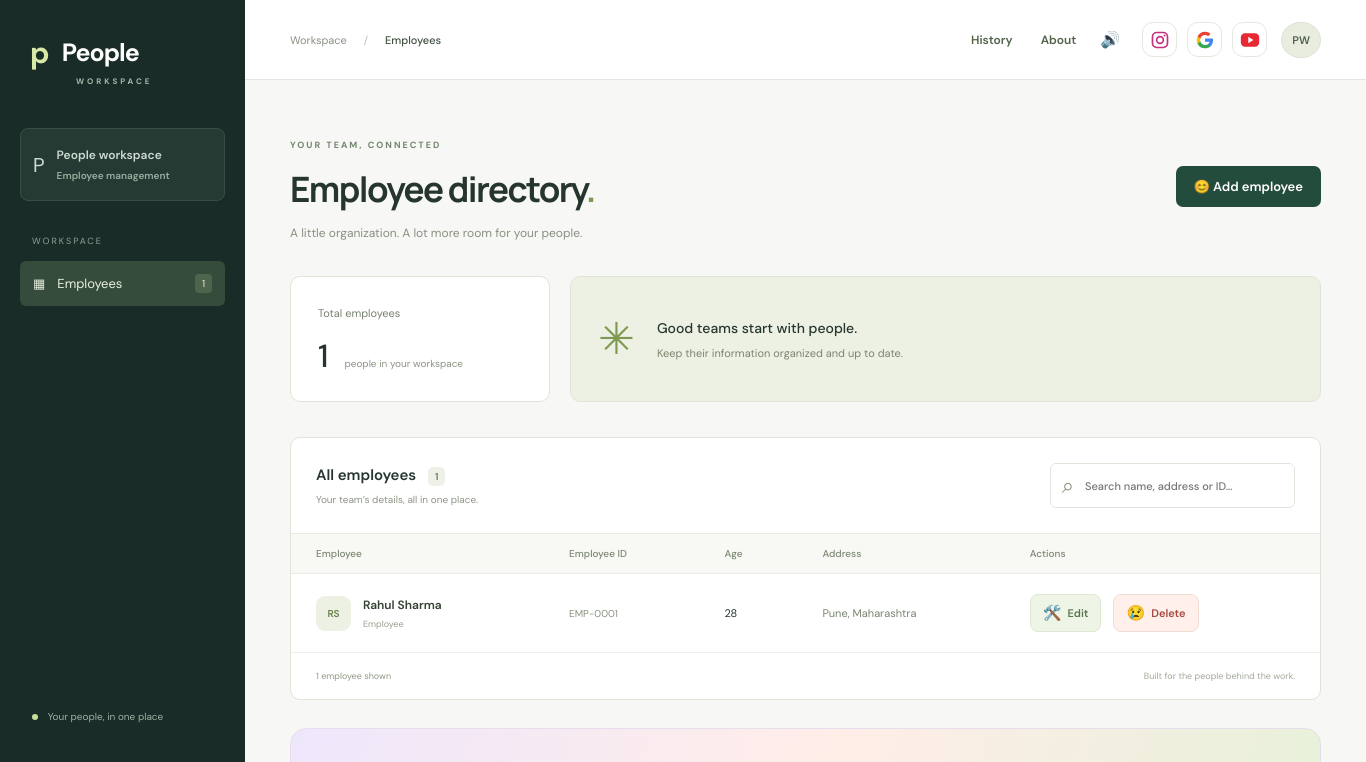
Test case: edits employee and refreshes list
Click the button with aria-label "Edit Rahul Sharma" at [1066, 613], box [1030,594,1102,632]
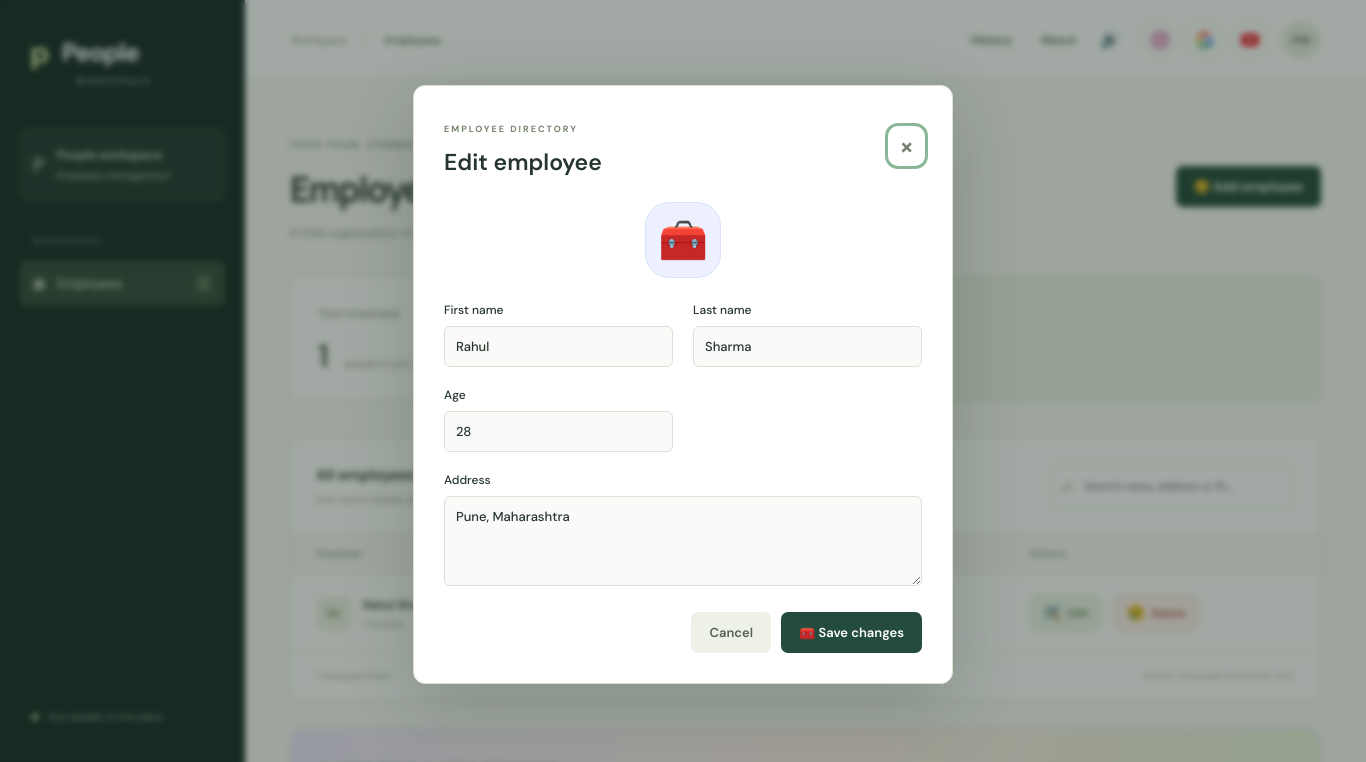
Replace the text in the number field labelled "Age" with "29" at [558, 431], box [444,410,673,452]
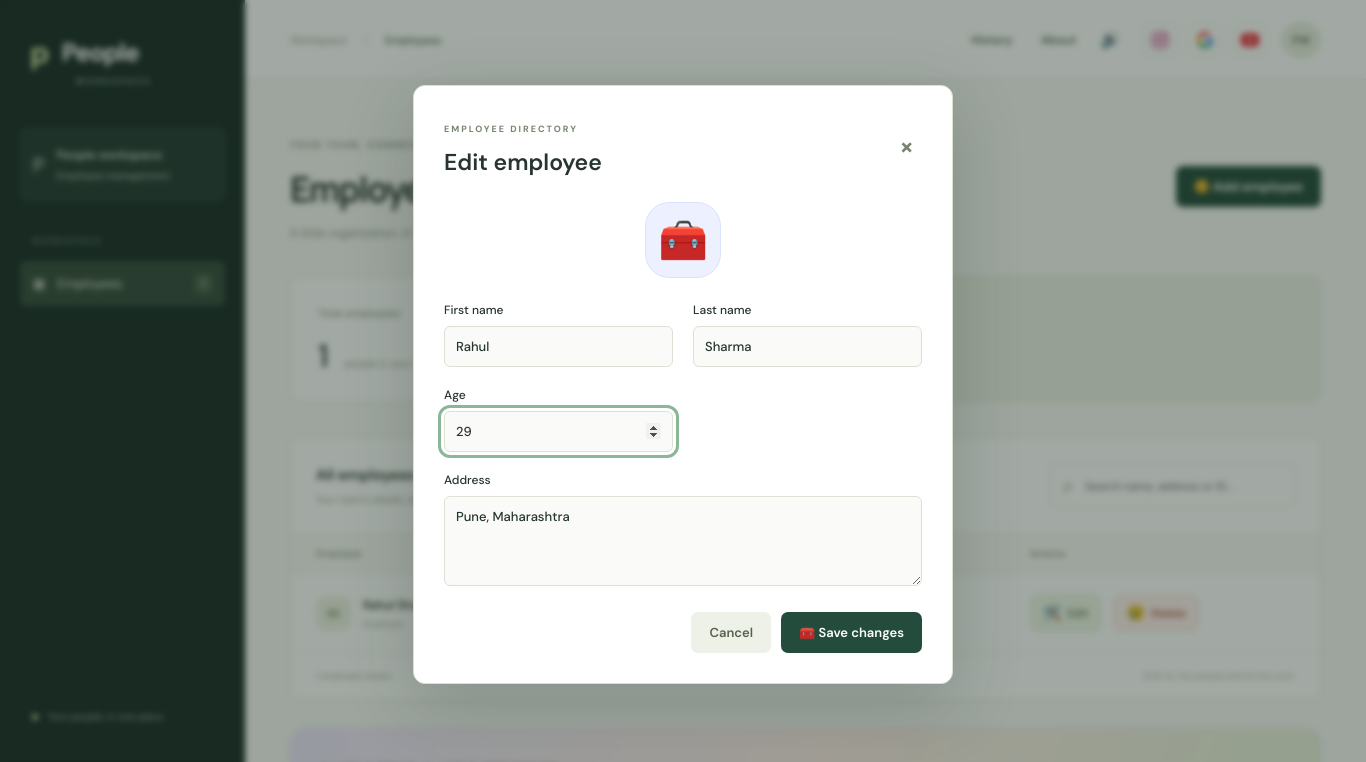
Click the button "🧰 Save changes" at [852, 632], box [781,612,922,652]
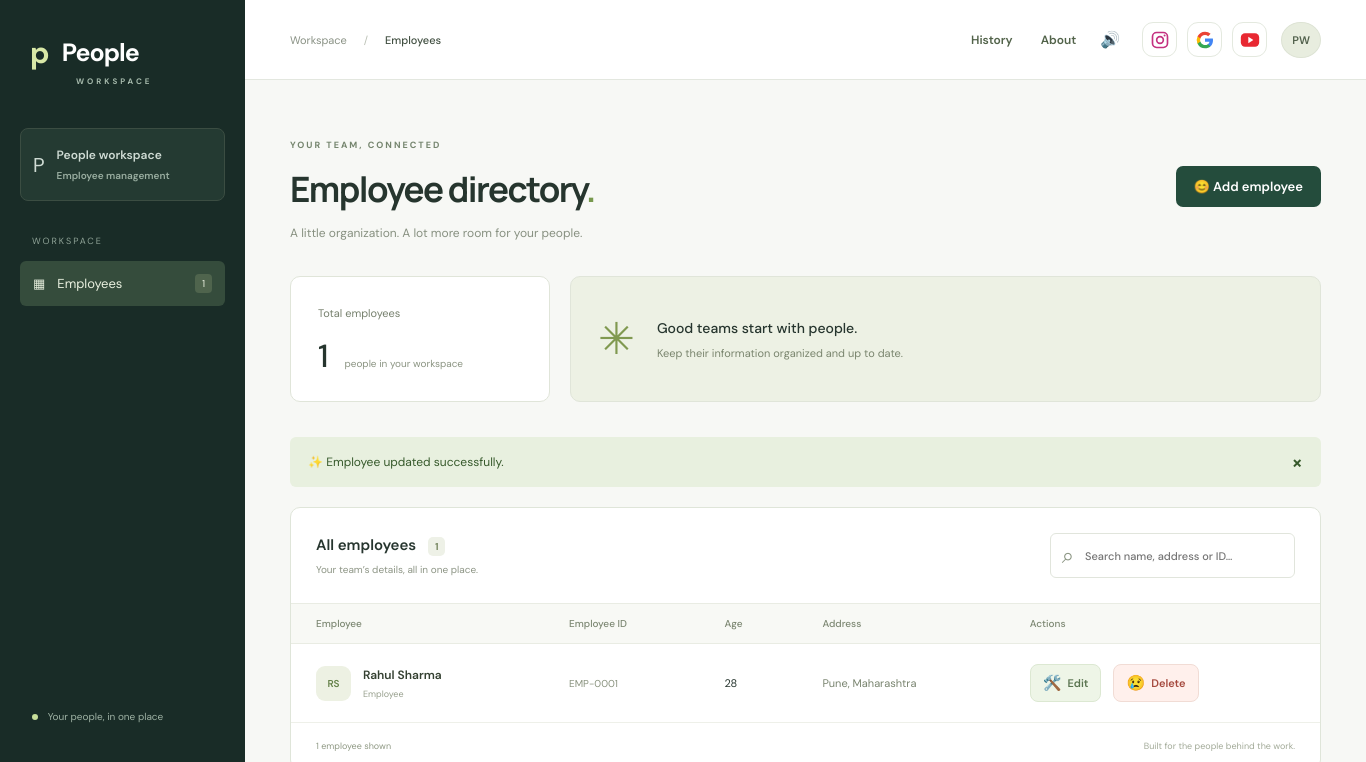
Result: the text "Employee updated successfully." is shown at [326,454,504,470]
